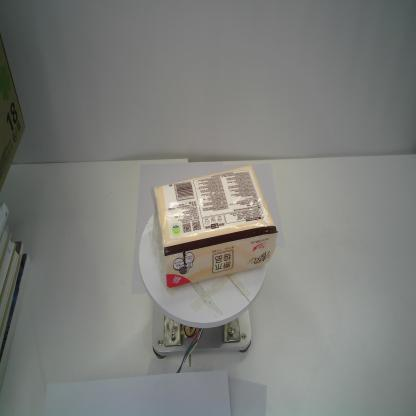Tissue: (154, 164, 278, 289)
